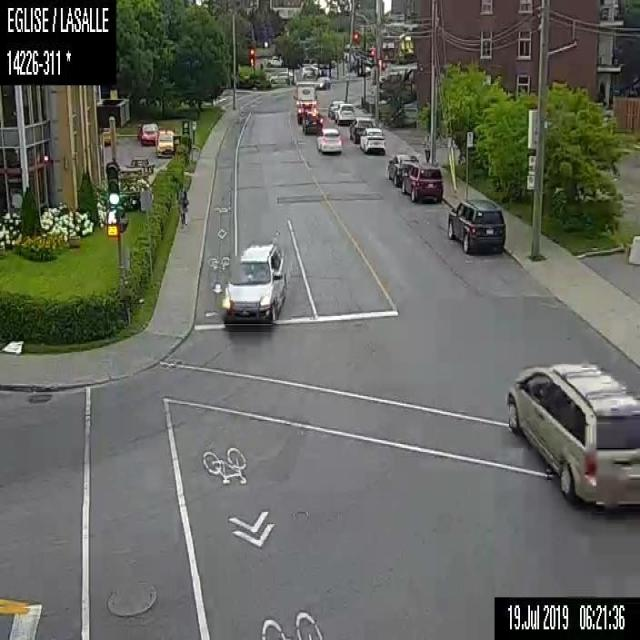pedestrian: (178, 188, 187, 227), (422, 133, 430, 163)
vehicle: (505, 360, 639, 508), (224, 241, 288, 323), (446, 197, 504, 252), (399, 162, 444, 202), (386, 151, 418, 185), (359, 125, 387, 154), (293, 80, 317, 112), (316, 127, 342, 154), (348, 114, 373, 142), (300, 110, 324, 134), (154, 128, 174, 156), (334, 102, 356, 124), (138, 120, 158, 144), (270, 68, 295, 85), (299, 62, 318, 78), (315, 73, 329, 91), (267, 54, 282, 66)
